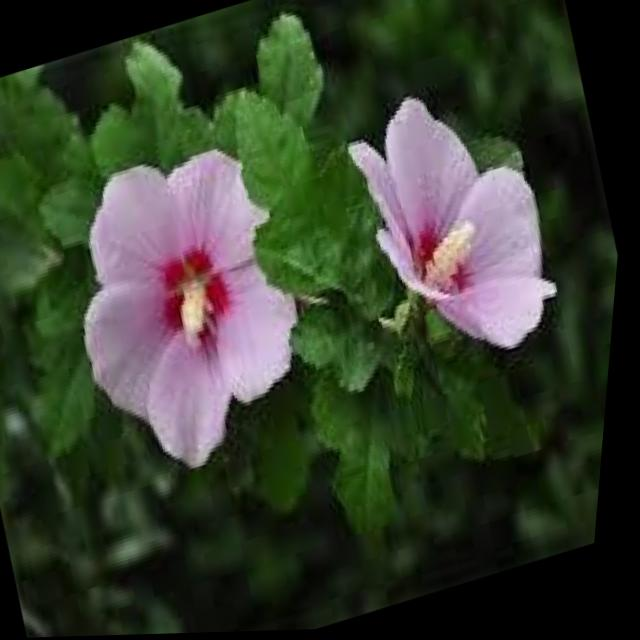Flower: (35, 127, 344, 490), (317, 58, 599, 389)
